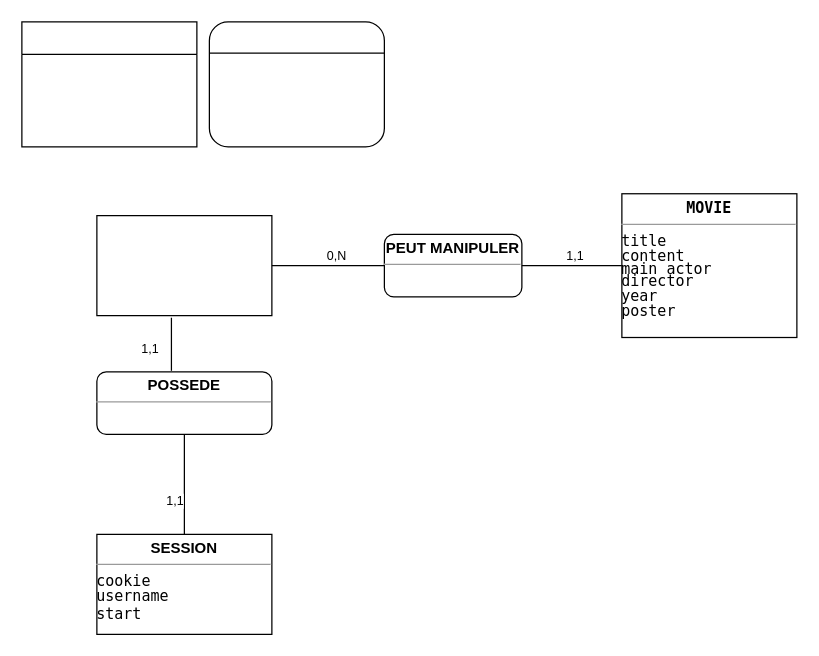
Image size: 819x656. Some labels were removed from this diagram. Each missing label, with the box of its shape:
ACCOUNT username password picture: (96, 214, 272, 316)
Classname: (21, 21, 197, 147)
